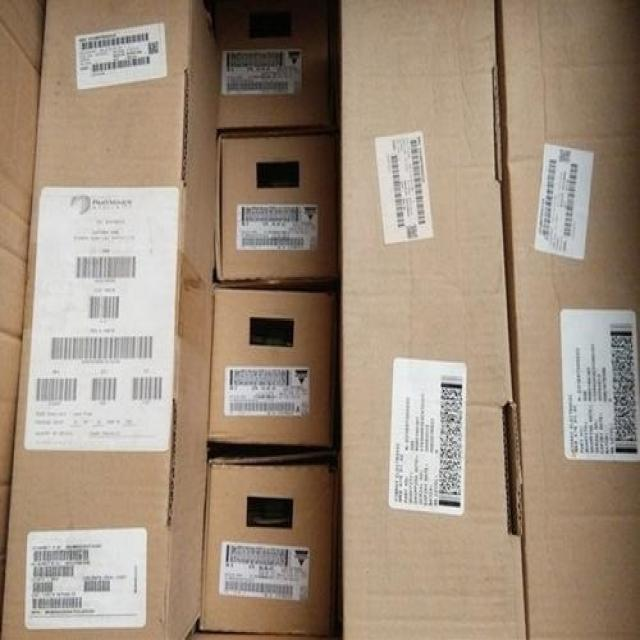box: (1, 1, 224, 638), (341, 1, 527, 638), (496, 1, 638, 638), (200, 450, 335, 633), (207, 288, 335, 447), (216, 136, 331, 284), (211, 2, 329, 131)
